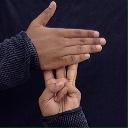hand: (25, 0, 106, 70), (38, 62, 81, 117)
